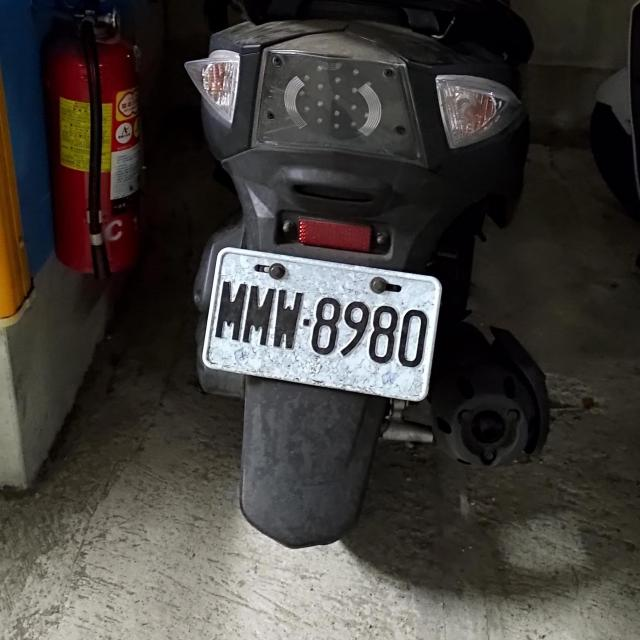W: (196, 244, 446, 401)
